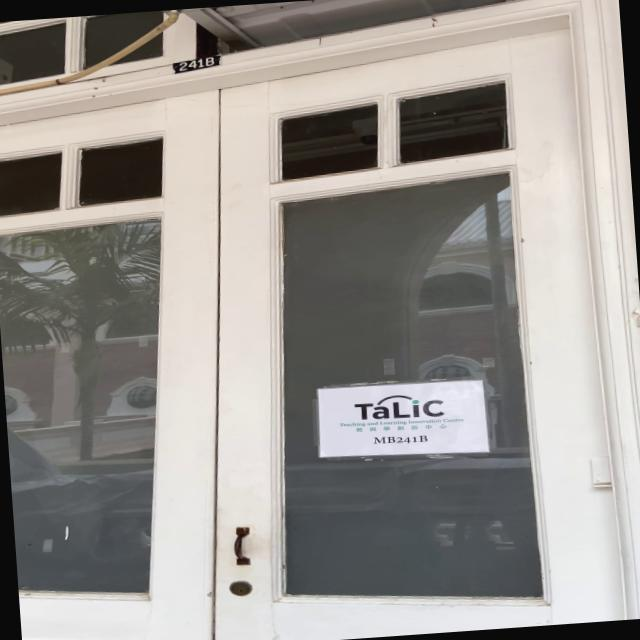room241b: (170, 52, 223, 74)
